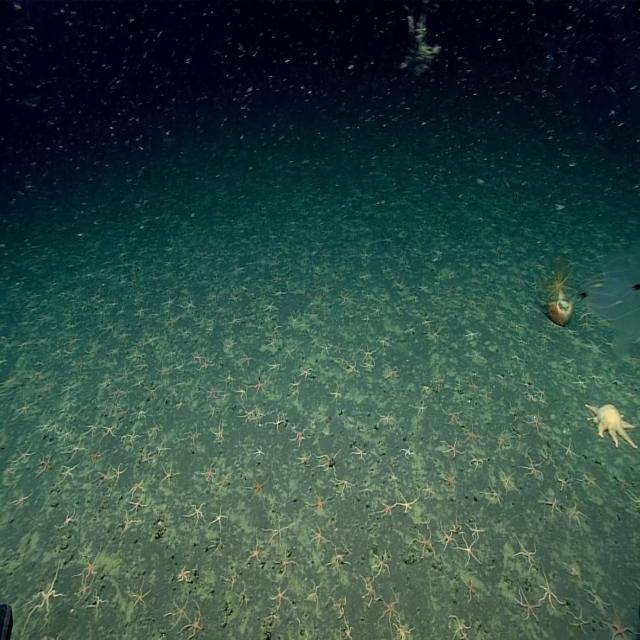brittle-stars: (28, 564, 66, 619), (604, 605, 634, 640), (377, 594, 400, 634), (357, 570, 381, 608), (536, 574, 560, 610), (264, 514, 290, 547), (128, 580, 152, 612), (78, 548, 102, 580), (268, 580, 293, 610), (515, 590, 538, 621), (447, 612, 471, 640), (514, 539, 537, 568), (167, 595, 189, 625), (306, 487, 328, 517), (184, 603, 203, 637), (413, 530, 436, 558), (326, 543, 349, 570), (457, 536, 478, 565), (185, 499, 207, 526), (158, 457, 179, 485), (569, 605, 588, 634), (10, 486, 35, 508), (539, 492, 561, 516), (480, 483, 502, 507), (245, 537, 262, 568), (441, 434, 462, 459), (372, 552, 392, 578), (498, 468, 518, 494), (437, 522, 456, 548), (396, 490, 418, 512), (247, 475, 267, 499), (524, 455, 544, 479), (315, 453, 338, 473), (564, 502, 583, 526), (123, 424, 142, 448), (525, 408, 543, 433), (463, 424, 481, 449), (88, 442, 106, 467), (275, 551, 295, 573), (15, 443, 34, 466), (309, 524, 327, 548), (117, 512, 136, 534), (462, 576, 478, 602), (177, 563, 195, 586), (59, 462, 79, 482), (64, 438, 83, 459), (210, 506, 228, 528), (442, 462, 456, 490), (561, 437, 577, 461), (215, 472, 234, 492), (336, 477, 355, 497), (128, 496, 146, 516), (61, 507, 78, 528), (578, 471, 598, 488), (146, 420, 163, 440), (185, 423, 201, 444), (202, 461, 216, 484), (110, 463, 126, 483), (59, 423, 75, 443), (330, 593, 344, 615), (128, 479, 146, 496), (378, 499, 395, 517), (291, 426, 306, 446), (270, 413, 285, 433), (206, 382, 221, 402), (39, 454, 53, 475), (396, 623, 413, 640), (95, 467, 111, 485), (586, 340, 604, 356), (351, 444, 367, 462), (143, 330, 159, 348), (212, 420, 225, 442), (154, 440, 169, 459), (16, 400, 32, 417), (239, 352, 256, 368), (342, 616, 354, 638), (496, 428, 507, 452), (250, 378, 266, 394), (84, 420, 100, 436), (101, 424, 118, 439), (284, 342, 297, 361), (572, 374, 588, 389), (378, 411, 394, 426), (360, 344, 376, 359), (470, 453, 484, 470), (468, 522, 483, 537), (539, 328, 553, 344), (446, 407, 460, 423), (297, 451, 311, 467), (235, 384, 248, 401), (344, 359, 357, 376), (158, 361, 170, 379), (263, 299, 277, 314), (61, 398, 76, 412), (422, 481, 435, 497), (198, 356, 211, 372), (184, 296, 195, 314), (162, 294, 176, 308), (134, 303, 148, 317), (464, 329, 479, 342), (413, 402, 428, 415), (509, 320, 525, 332), (288, 376, 300, 392), (300, 366, 313, 380), (362, 359, 375, 373), (230, 313, 243, 327), (268, 356, 280, 371), (509, 351, 522, 364), (111, 386, 123, 400), (135, 405, 147, 419), (432, 290, 444, 304), (273, 286, 287, 298), (265, 334, 277, 348), (388, 469, 399, 484), (590, 372, 602, 385), (142, 452, 154, 465), (254, 444, 265, 458), (75, 357, 86, 371), (331, 384, 340, 401), (524, 390, 536, 402), (333, 342, 345, 354), (469, 378, 479, 392), (61, 384, 75, 394), (254, 408, 263, 422), (271, 270, 281, 282)
